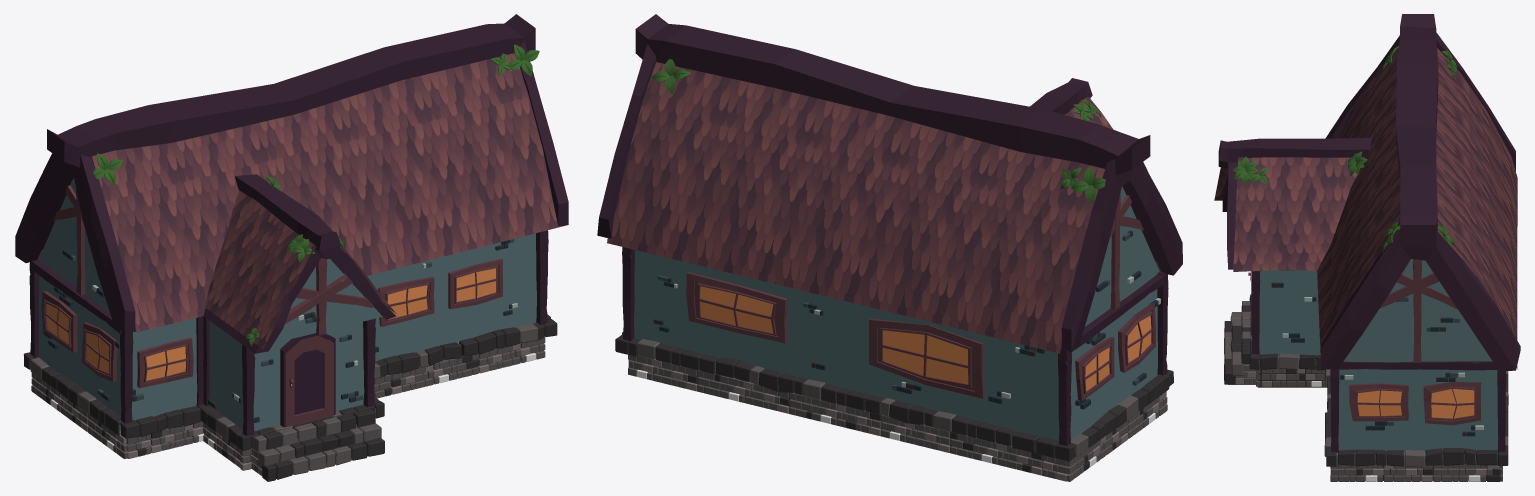
The model's file is casa-pedra4.fbx.
3 views of the same model, side by side, from view 1: azimuth 30°, elevation 25°; view 2: azimuth 150°, elevation 25°; view 3: azimuth 270°, elevation 25° (orthographic). The views are drawn at different scales.
Visible parts, largest first — view 1: CasaPedra4_LOD0, PortaCasaPedra4; view 2: CasaPedra4_LOD0; view 3: CasaPedra4_LOD0.
Part boxes in pixels (bbox=[...]): CasaPedra4_LOD0: bbox=[15, 14, 568, 481]; PortaCasaPedra4: bbox=[285, 335, 333, 427]; CasaPedra4_LOD0: bbox=[597, 14, 1182, 481]; CasaPedra4_LOD0: bbox=[1214, 14, 1520, 481].
Size of what is drawn, in the model's own units: 10.99 by 6.61 by 6.76.
